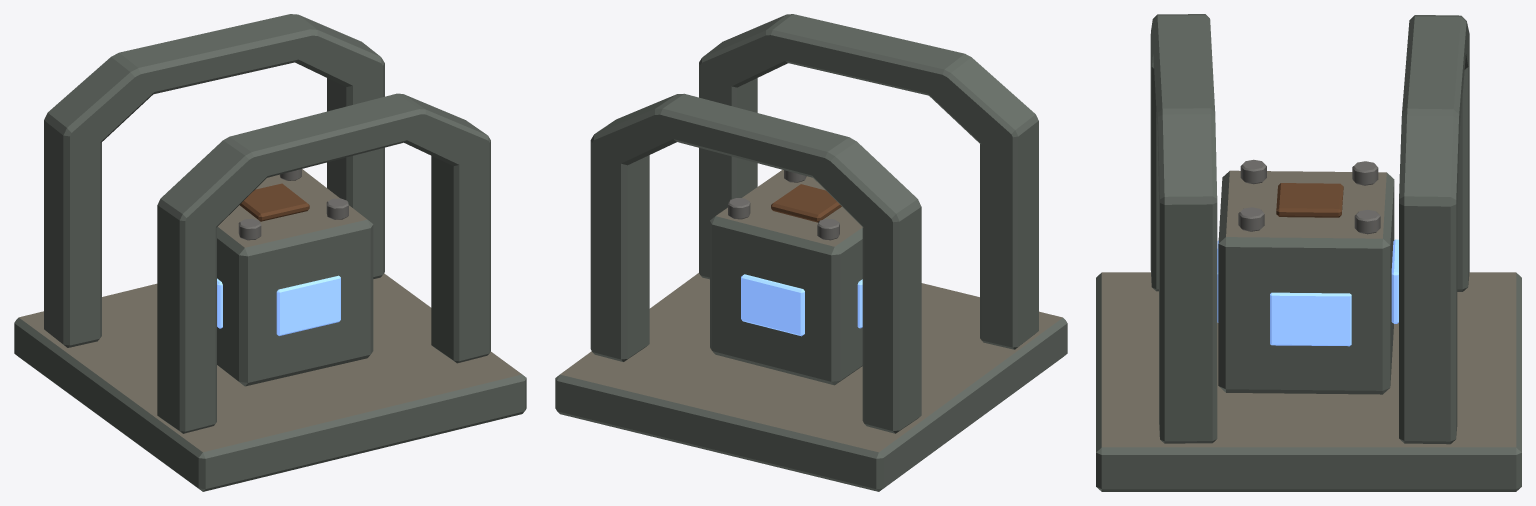
Rendered from R4X_ModuleDurabilityBooster_LOD1.fbx.
3 views of the same model, side by side, from view 1: azimuth 30°, elevation 25°; view 2: azimuth 150°, elevation 25°; view 3: azimuth 270°, elevation 25° (orthographic). The views are drawn at different scales.
Parts seen in each view (by area): view 1: R4X_ModuleDurabilityBooster_LOD1; view 2: R4X_ModuleDurabilityBooster_LOD1; view 3: R4X_ModuleDurabilityBooster_LOD1.
Boxes of the visible parts, x1=… form: R4X_ModuleDurabilityBooster_LOD1: x1=14, y1=14, x2=526, y2=491; R4X_ModuleDurabilityBooster_LOD1: x1=555, y1=14, x2=1067, y2=491; R4X_ModuleDurabilityBooster_LOD1: x1=1096, y1=14, x2=1521, y2=491.
Size of the model in its own units: 0.52 by 0.46 by 0.52.
